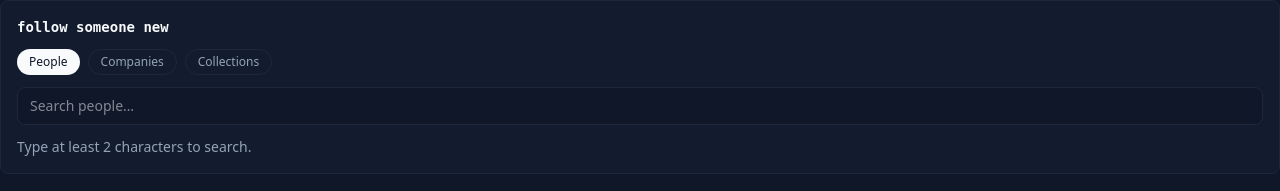
it: FollowEntitySearch › says nothing matched rather than showing an empty list
Type "zzzz" into the search field at (640, 106), box [17,87,1263,125]
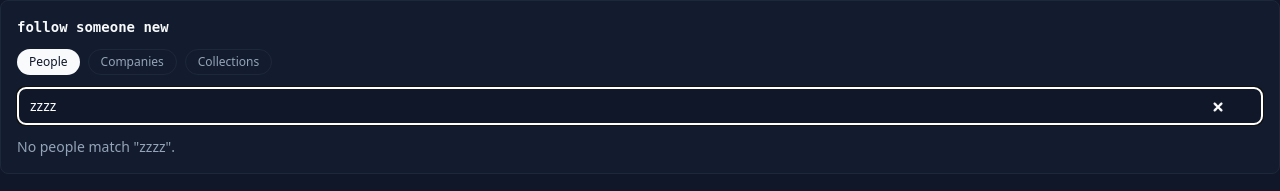
Expected: the text "No people match \"zzzz\"." is shown, [17,137,175,156]
